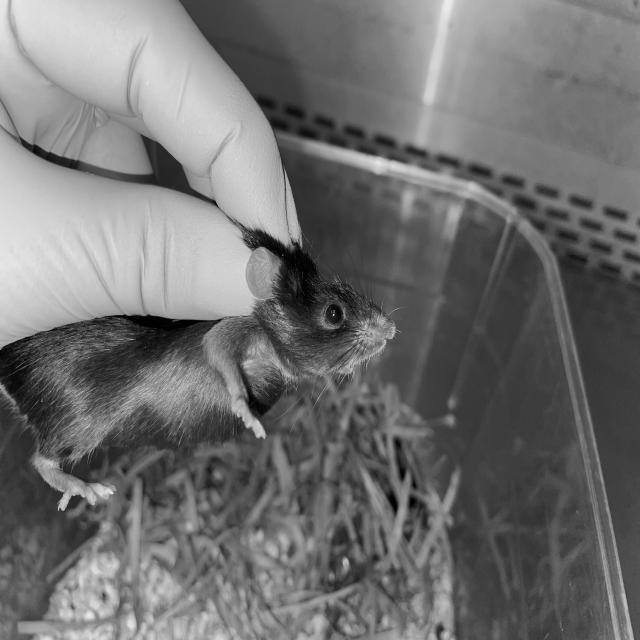Face: (233, 235, 401, 420)
